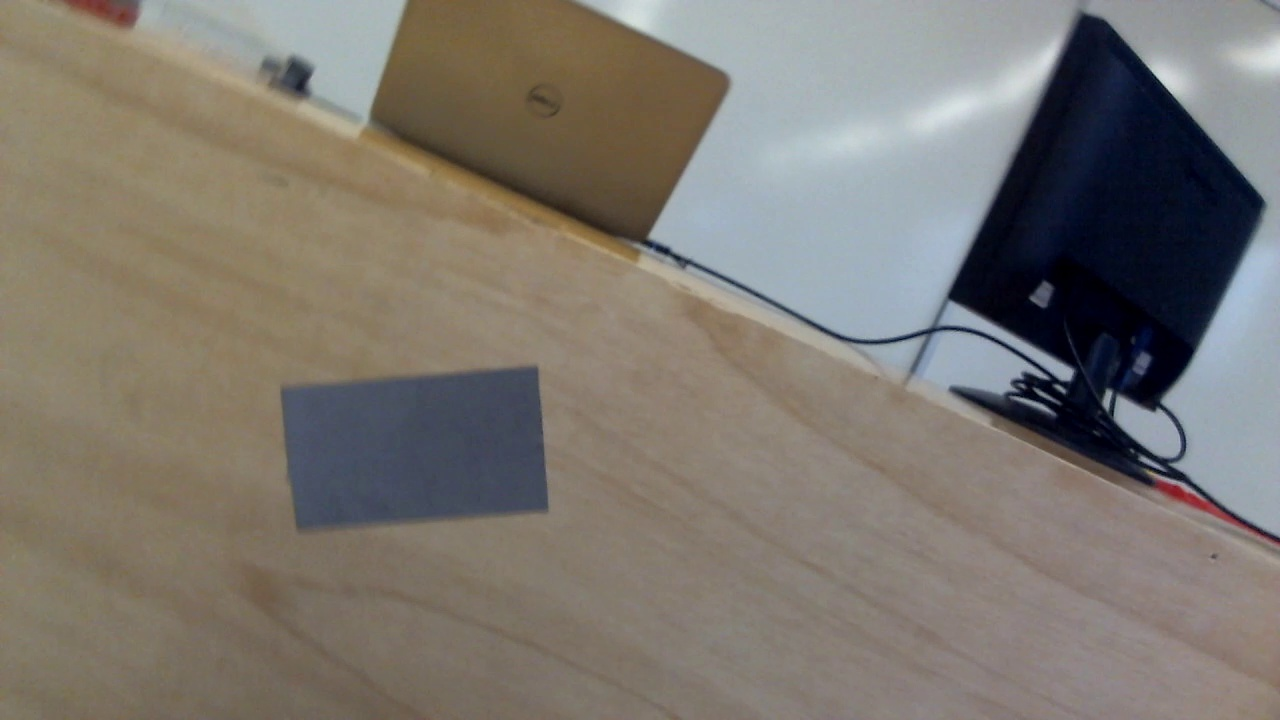Tape: (280, 362, 549, 534)
